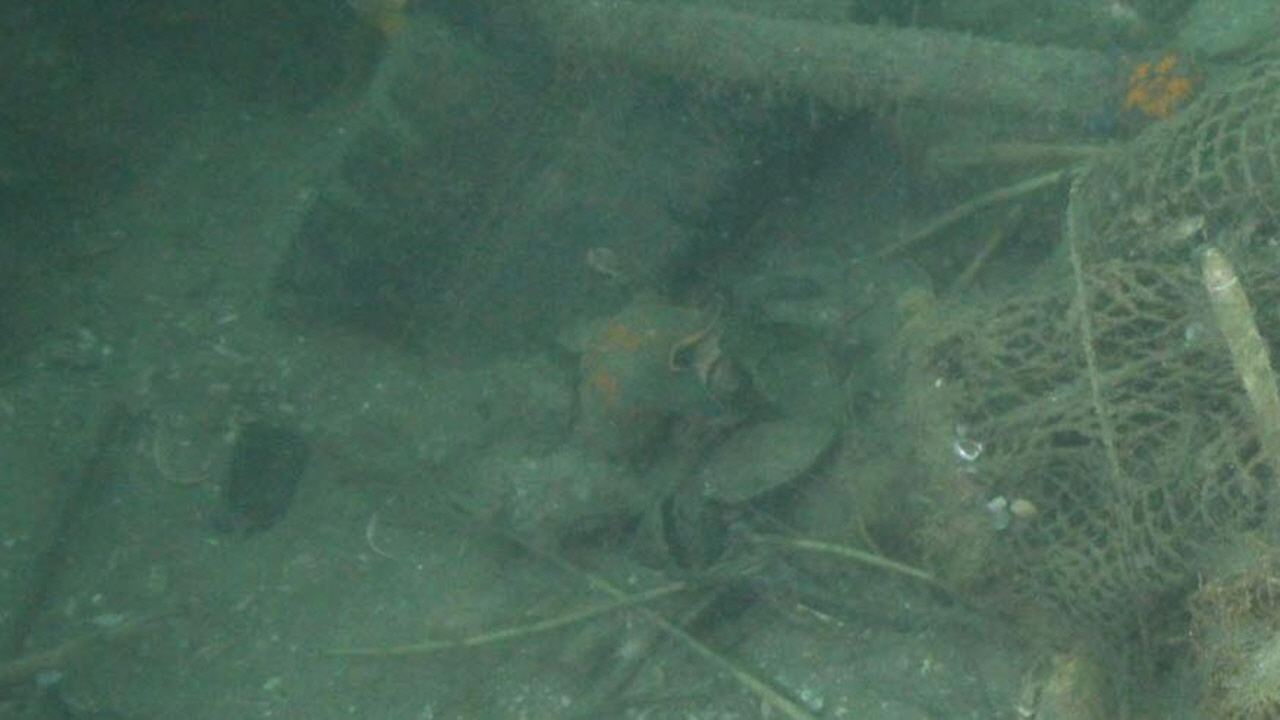fish net: (948, 59, 1280, 644)
